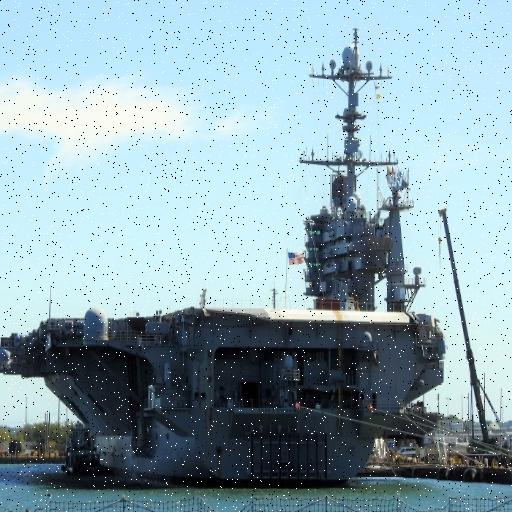Portanaves: (1, 18, 455, 489)
